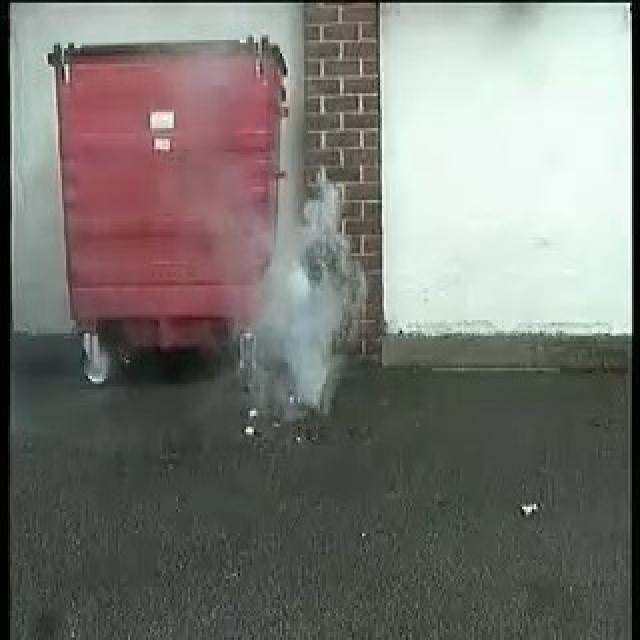smoke: (249, 182, 357, 396)
